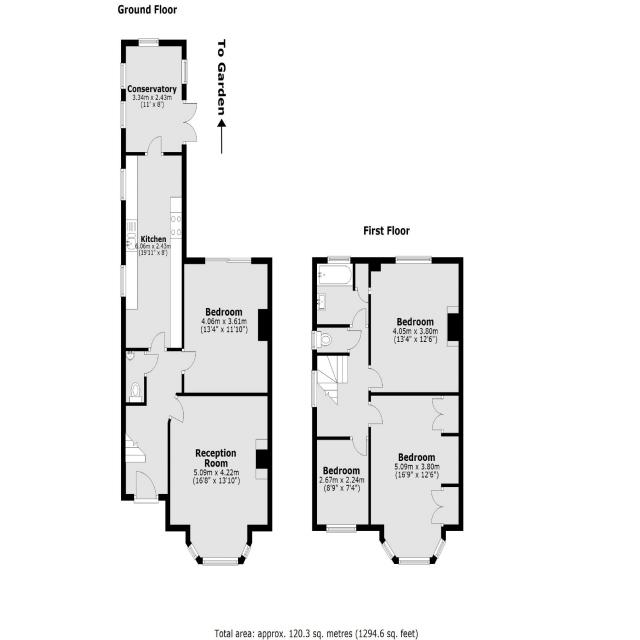DOOR: (133, 470, 159, 504), (168, 394, 184, 424), (347, 326, 362, 354), (368, 401, 383, 428), (144, 350, 159, 377), (182, 348, 197, 375), (368, 365, 383, 391), (350, 436, 369, 456), (349, 308, 369, 327), (148, 332, 168, 351), (145, 136, 164, 155)
DOUBLE DOOR: (182, 99, 197, 145)
ROOM: (165, 392, 273, 566), (368, 392, 463, 565), (120, 135, 187, 352), (368, 255, 464, 396), (182, 257, 273, 397), (120, 38, 198, 156), (312, 436, 371, 533)
SLIDING DOOR: (204, 257, 252, 265)
WINDOW: (395, 255, 432, 264), (202, 557, 239, 566), (381, 539, 396, 561), (433, 537, 446, 560), (311, 369, 318, 409), (326, 524, 357, 533), (398, 557, 430, 565), (187, 542, 200, 561), (120, 264, 127, 298), (327, 255, 351, 264), (138, 37, 159, 47), (240, 543, 252, 560), (120, 168, 126, 201), (120, 62, 127, 90), (181, 59, 188, 85), (120, 100, 126, 129), (311, 330, 318, 351)
